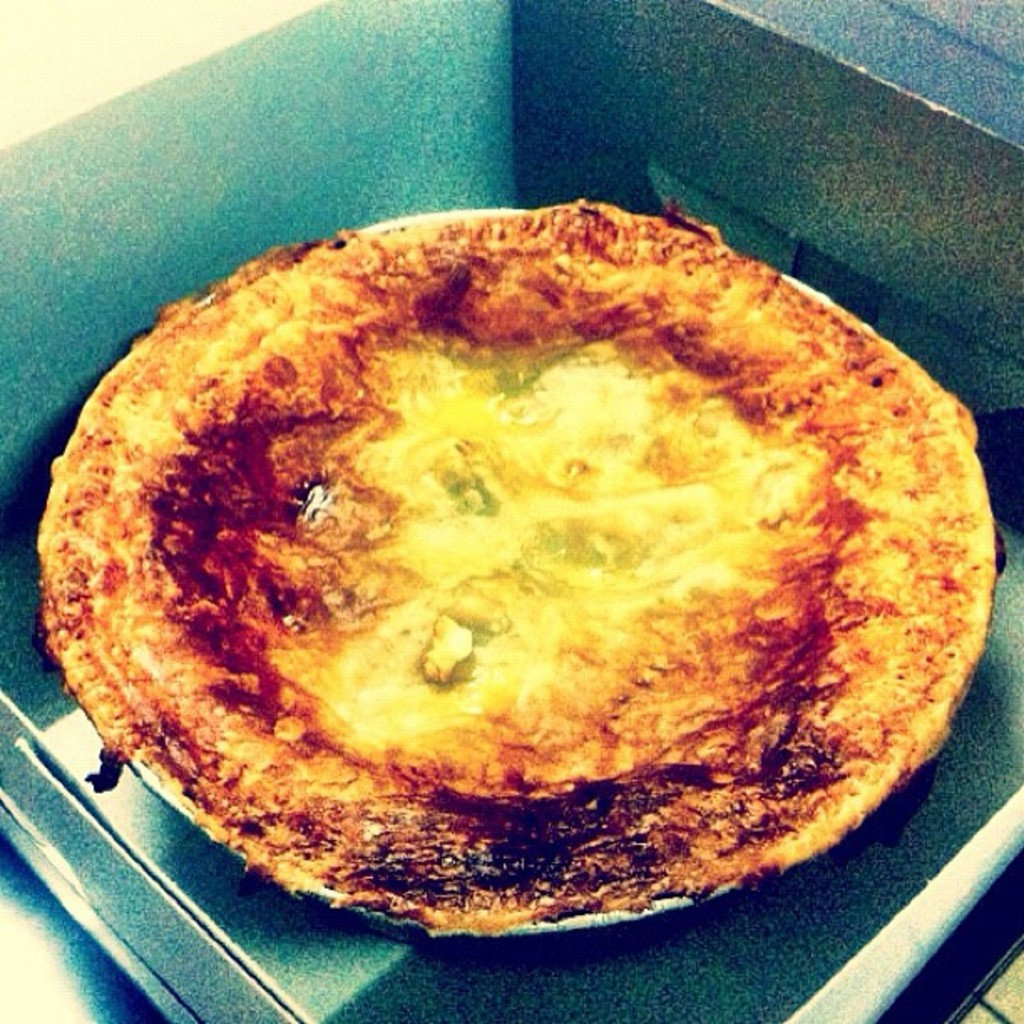Pizza: (21, 175, 1010, 955)
